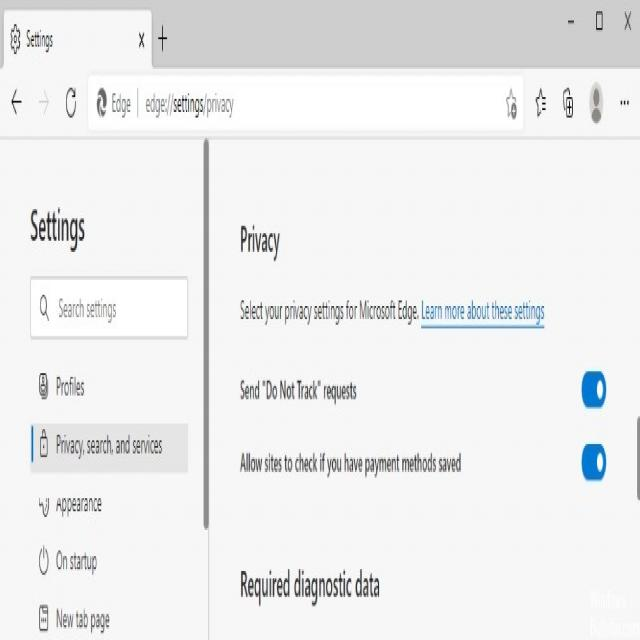button: (32, 475, 185, 533), (32, 363, 187, 419), (4, 11, 151, 69), (31, 536, 186, 588), (32, 424, 188, 472), (31, 595, 184, 640), (203, 138, 209, 529), (95, 87, 133, 121), (152, 9, 174, 66), (582, 443, 606, 481), (582, 371, 606, 408), (588, 4, 612, 40), (62, 78, 79, 125), (559, 78, 576, 124), (532, 80, 550, 122), (616, 4, 638, 38), (36, 80, 52, 124), (9, 80, 24, 123), (589, 80, 603, 122), (562, 8, 580, 40), (616, 86, 634, 118), (504, 86, 518, 123), (38, 290, 51, 326), (136, 27, 146, 53)
field: (88, 76, 524, 133), (30, 278, 188, 338)
